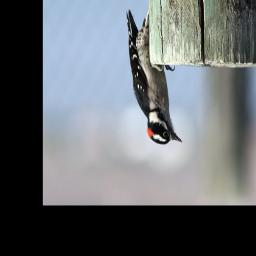Woodpecker: (125, 11, 183, 146)
